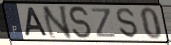0: (138, 6, 164, 41)
A: (24, 6, 49, 38)
N: (40, 5, 73, 40)
S: (67, 5, 95, 40), (115, 7, 140, 40)
Z: (90, 7, 117, 39)
